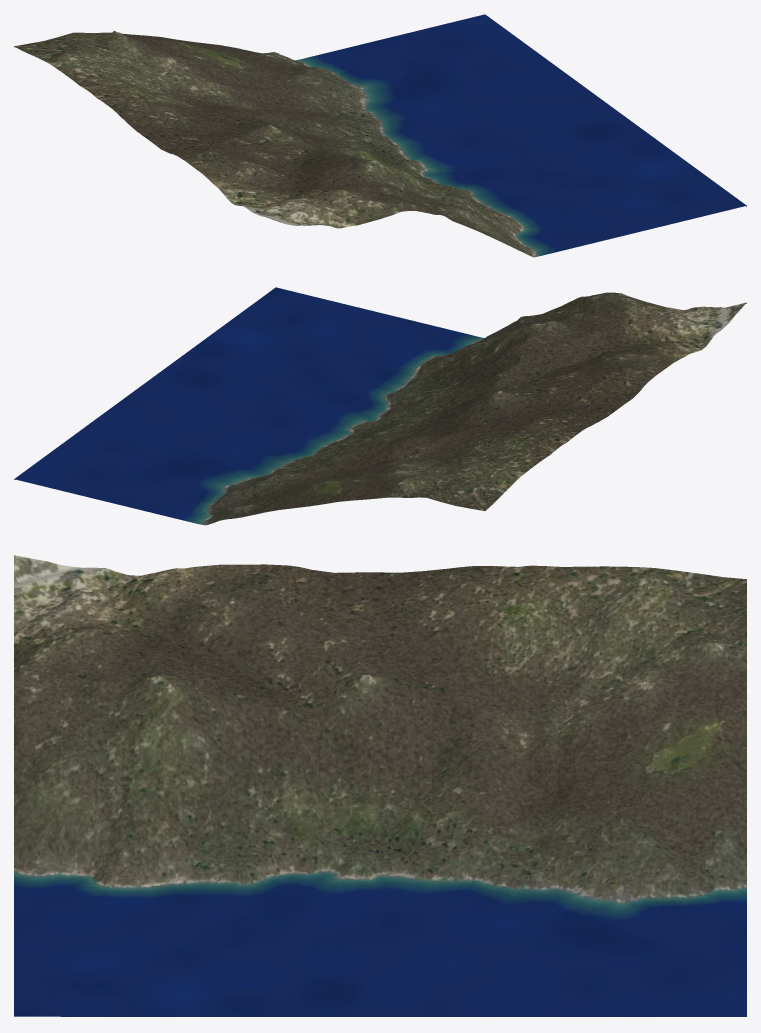
3 renders of one model, top to bottom at view 1: azimuth 30°, elevation 25°; view 2: azimuth 150°, elevation 25°; view 3: azimuth 270°, elevation 25°, orthographic. The views are drawn at different scales.
Bounding box in the file's own units: 1000 × 205 × 963.
Materials: 1 (1 with a texture image).
